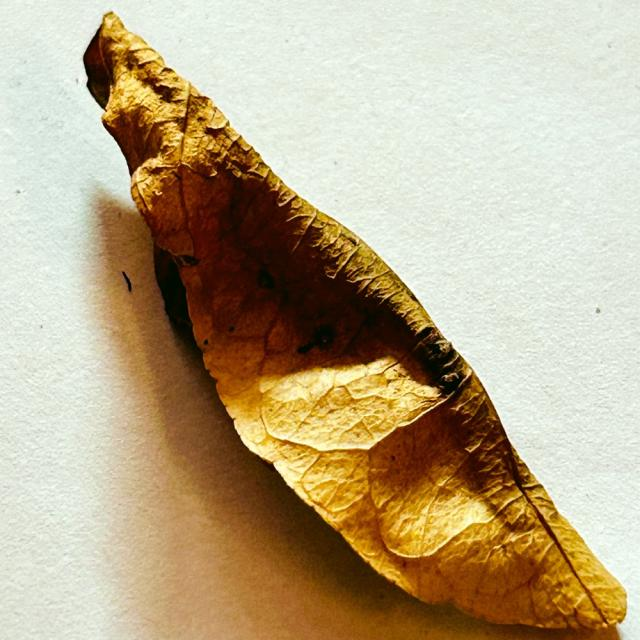DryLeaf_Lemon: (84, 12, 625, 632)
